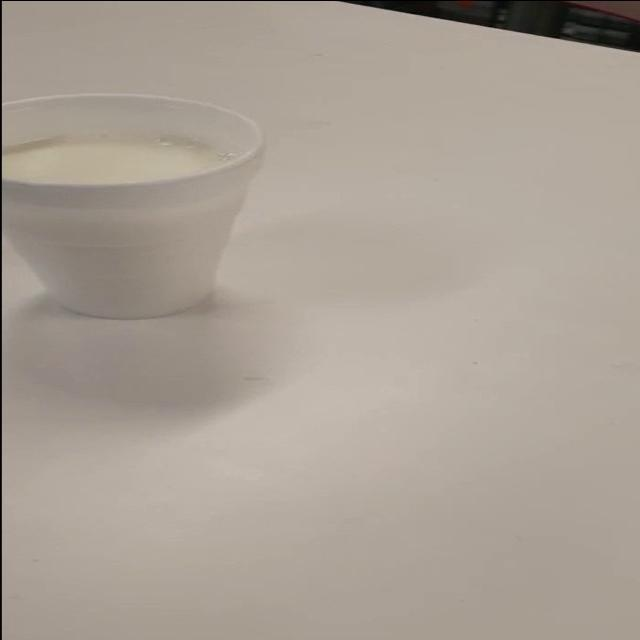Milk: (0, 63, 331, 356)
